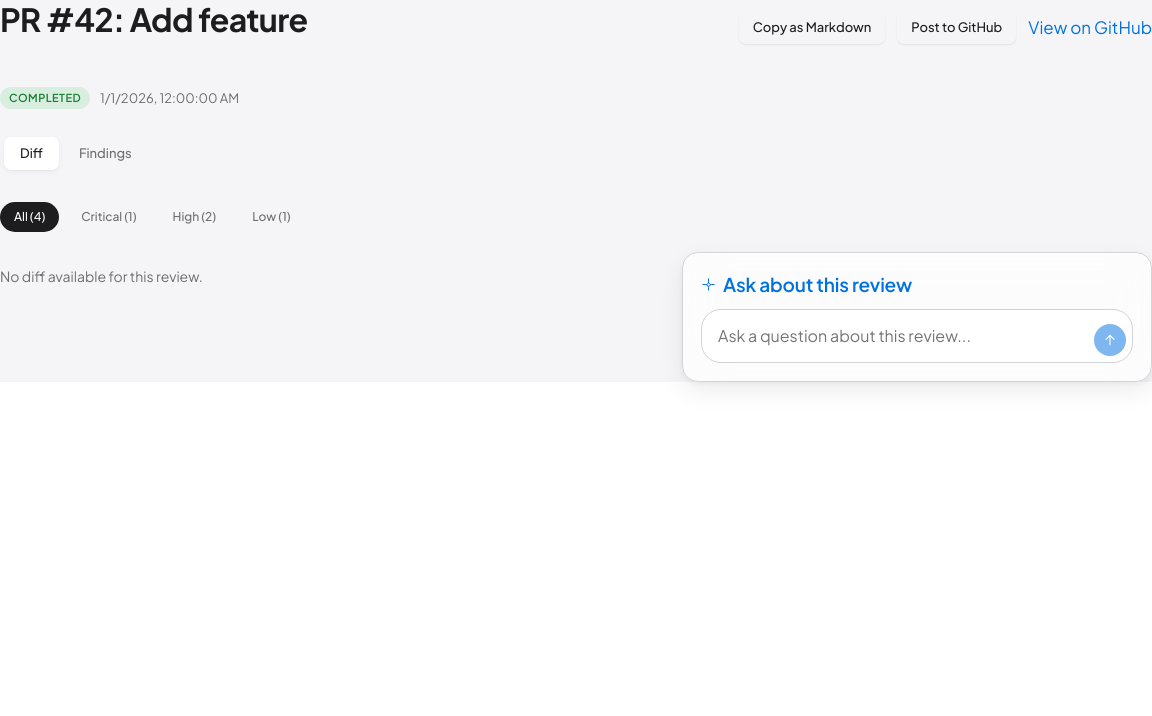
Test: ReviewDetail severity filter › returns to the full list when All is selected again
Click the button "Findings" at (105, 154), box [63,137,148,170]
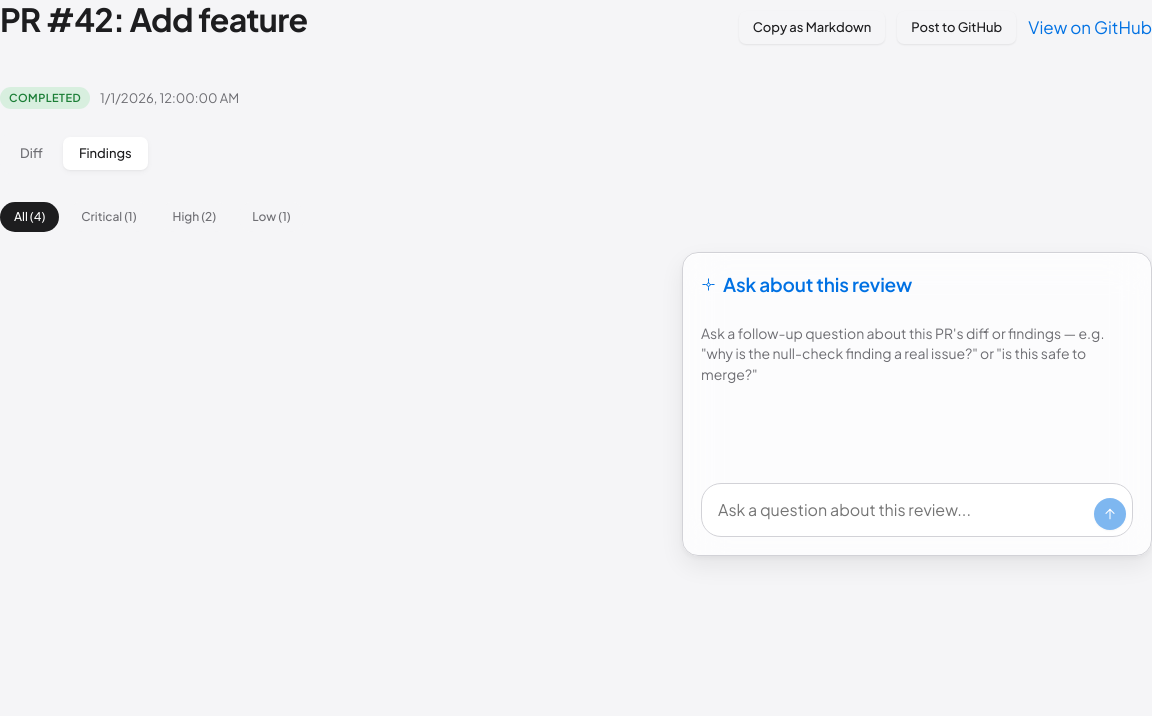
Click the button "critical (1)" at (109, 217), box [67,202,151,232]
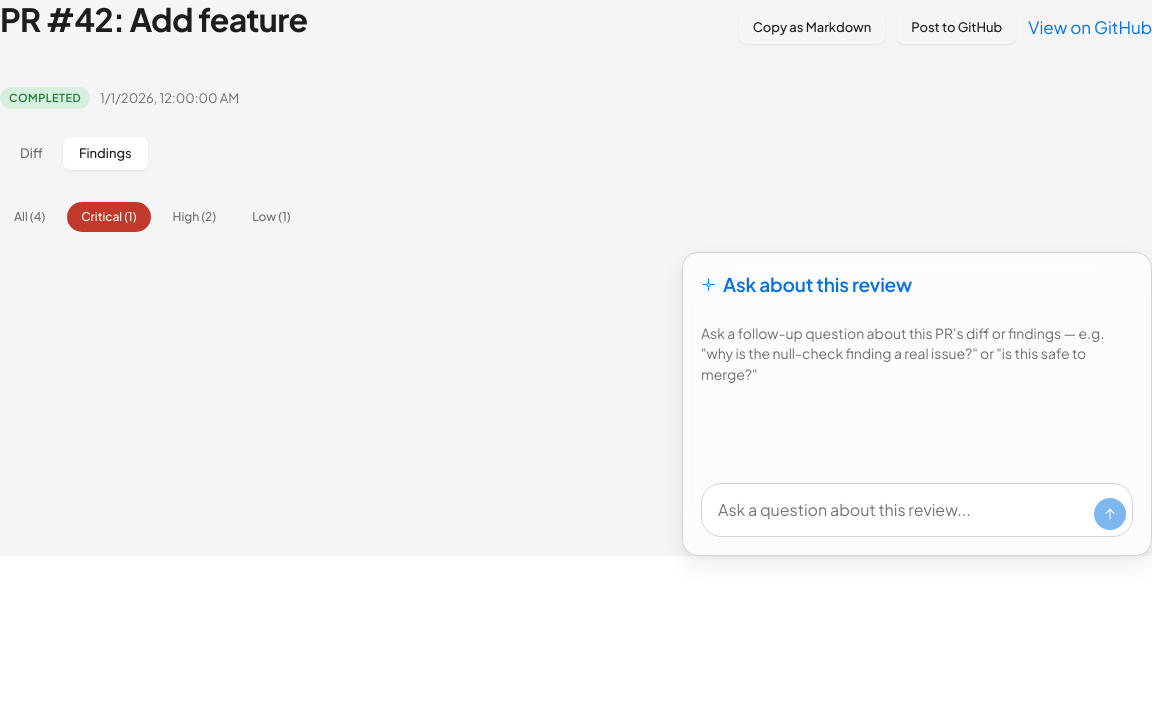
Click the button "All (4)" at (30, 217), box [0,202,59,232]
(page scrolled)
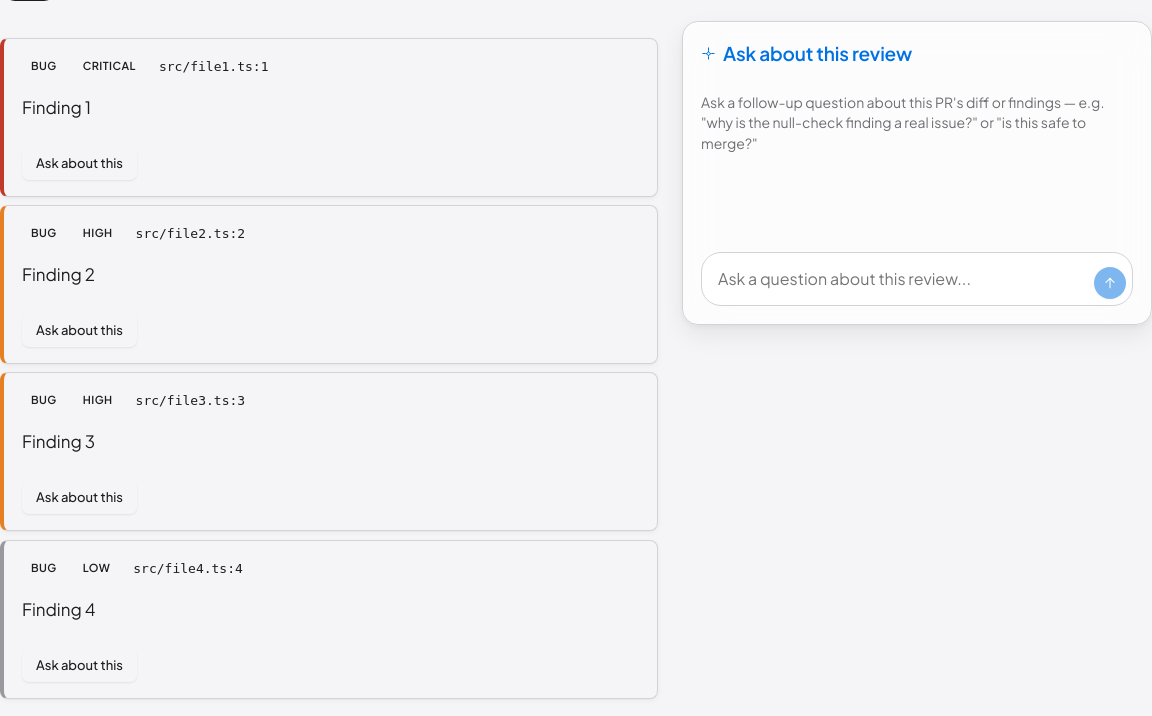
Now the text "Finding 1" is shown, box [22,96,91,118]
Now the text "Finding 2" is shown, box [22,263,95,285]
Now the text "Finding 3" is shown, box [22,430,95,452]
